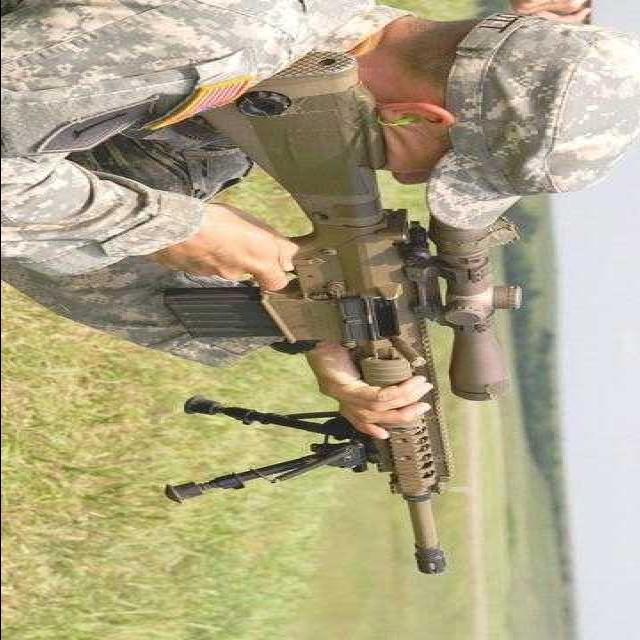heavyweapon: (163, 57, 533, 586)
